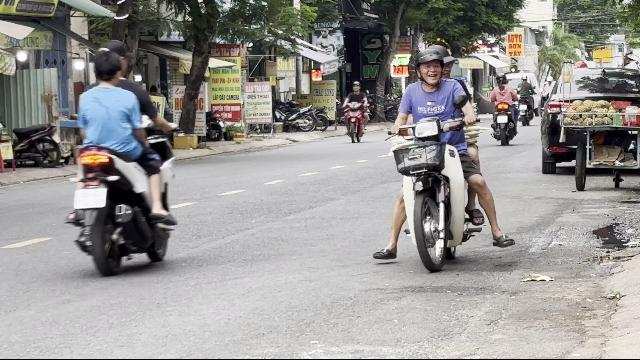helmet: (412, 46, 448, 86)
licenseplate: (73, 188, 105, 210)
motorcyclist: (380, 41, 504, 271), (65, 41, 178, 275)
nohelmet: (90, 47, 122, 84)
